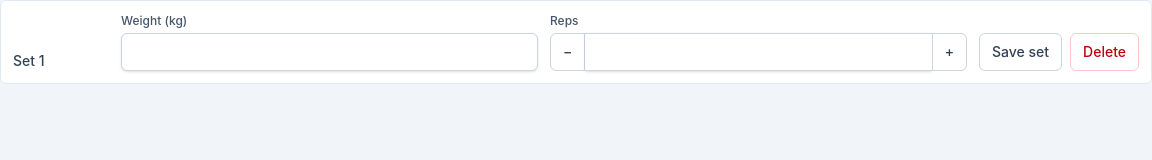
Test: WorkoutSetRow › requires weight and reps before saving a set
The image size is (1152, 160).
Click the button "Save set".
click(1020, 52)  # box 979,33 -> 1062,71
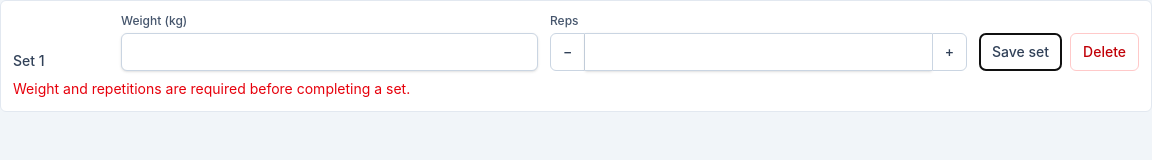
Expected: the text "Weight and repetitions are required before completing a set." is shown, 13,80 -> 410,97
